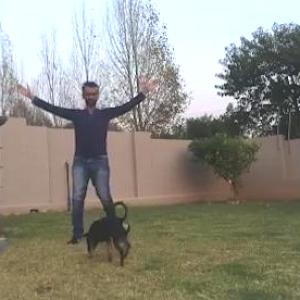takeoff: (1, 64, 159, 258)
